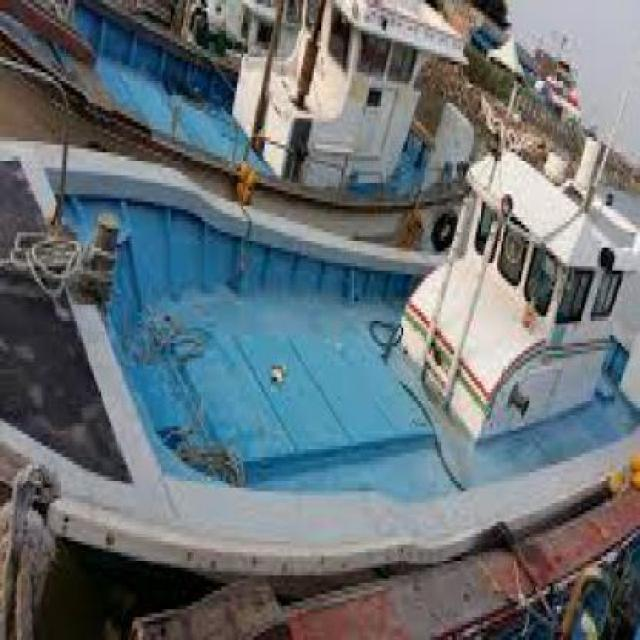fish-b: (1, 100, 639, 591)
